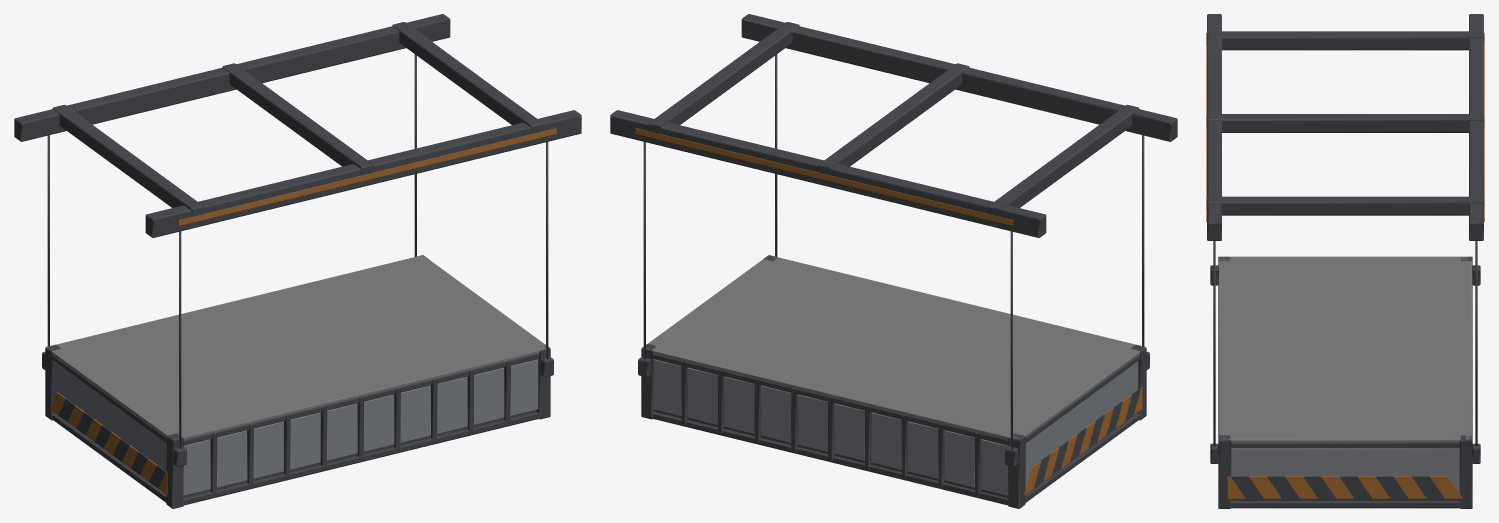
Rendered from SM_SB_Kit_CradlePod.fbx.
3 renders of one model, left to right at view 1: azimuth 30°, elevation 25°; view 2: azimuth 150°, elevation 25°; view 3: azimuth 270°, elevation 25°, orthographic.
Parts seen in each view (by area): view 1: SM_SB_Kit_CradlePod; view 2: SM_SB_Kit_CradlePod; view 3: SM_SB_Kit_CradlePod.
Part boxes in pixels (x1,y1,x2,y2): SM_SB_Kit_CradlePod: (14,14,581,508); SM_SB_Kit_CradlePod: (610,14,1177,508); SM_SB_Kit_CradlePod: (1206,14,1484,508).
Size of the model in its own units: 1640 by 923 by 1103.
